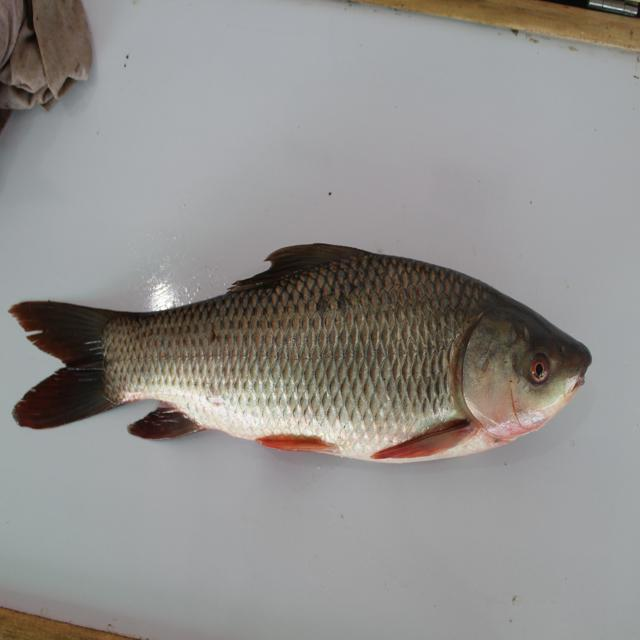Rohu: (1, 242, 612, 468)
